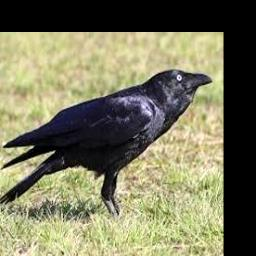Crow: (0, 69, 211, 219)
